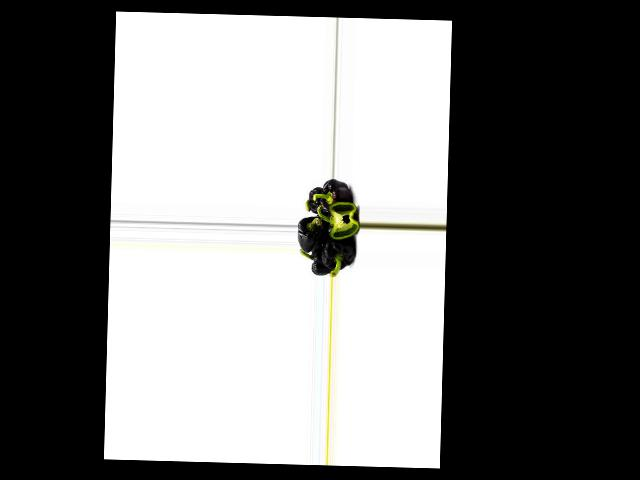bell_pepper: (319, 179, 350, 220)
